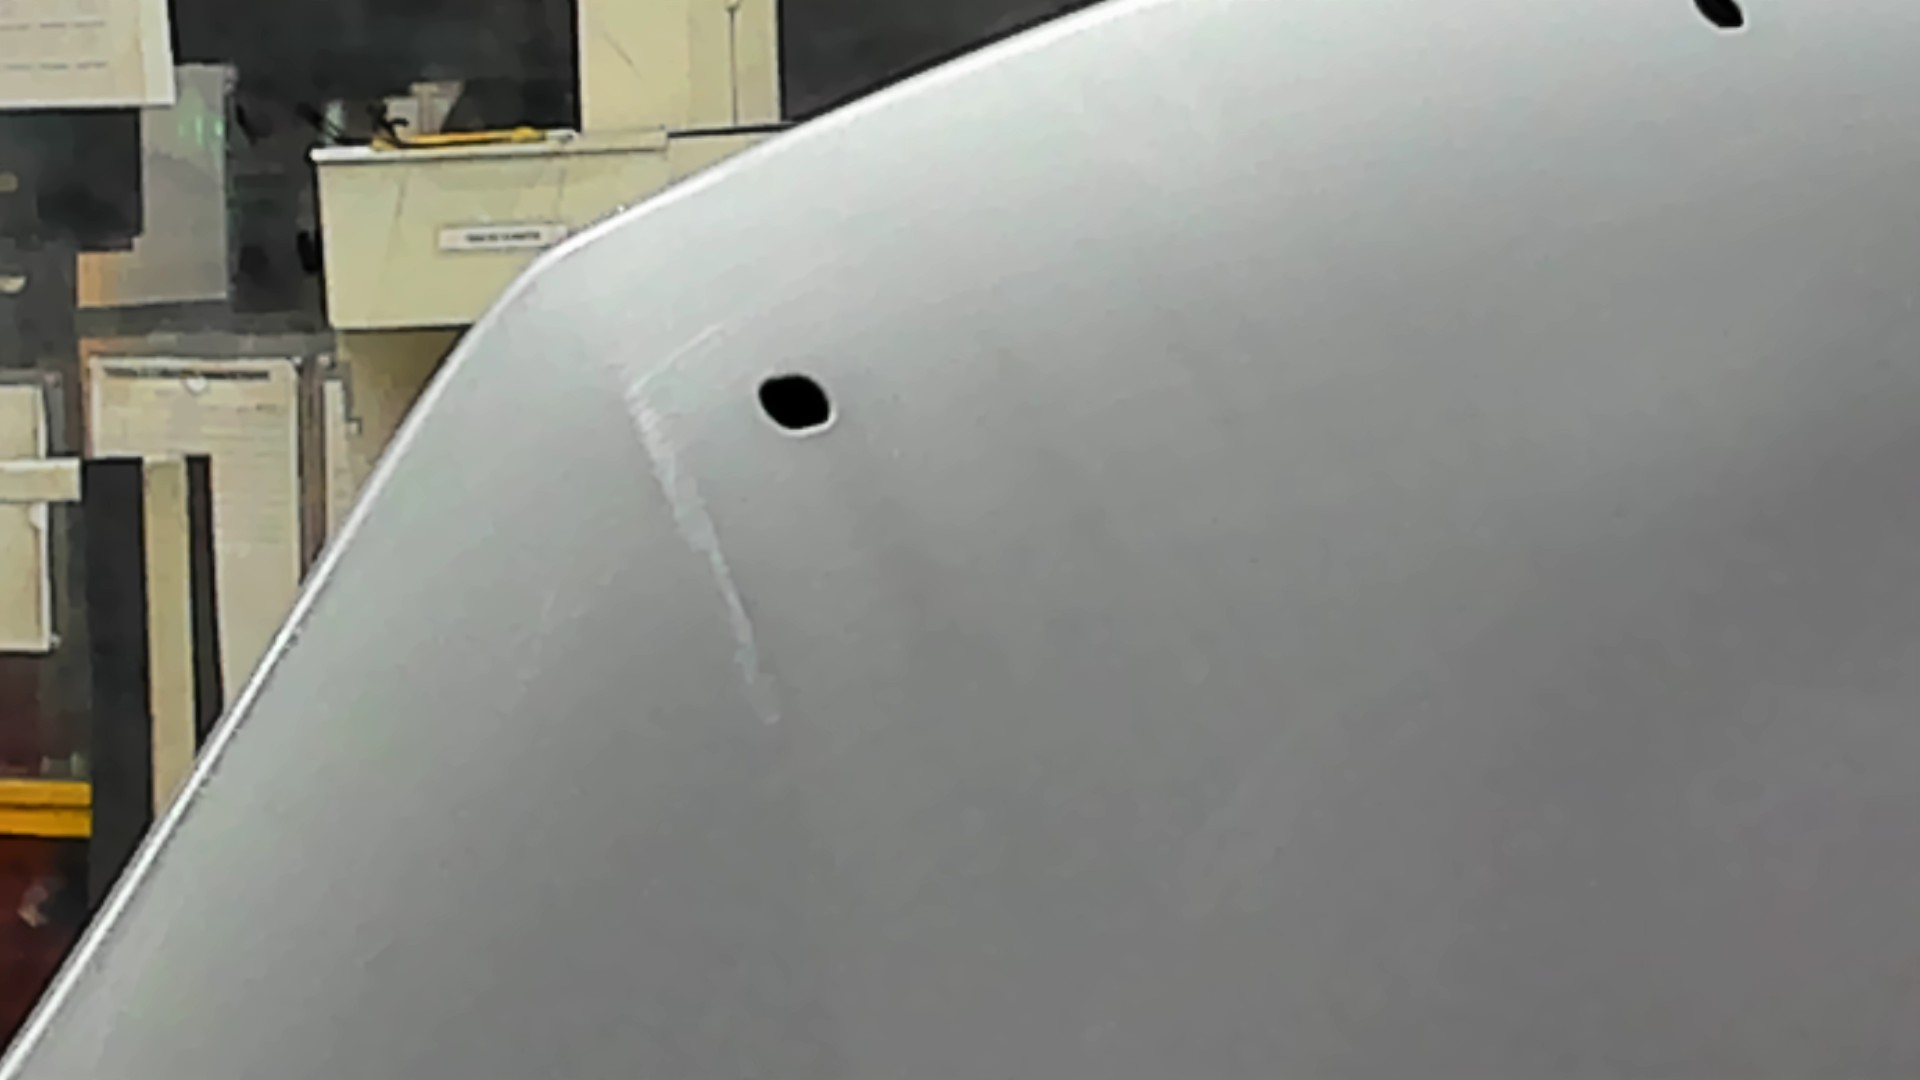Agujero: (756, 372, 836, 435), (1691, 1, 1747, 32)
